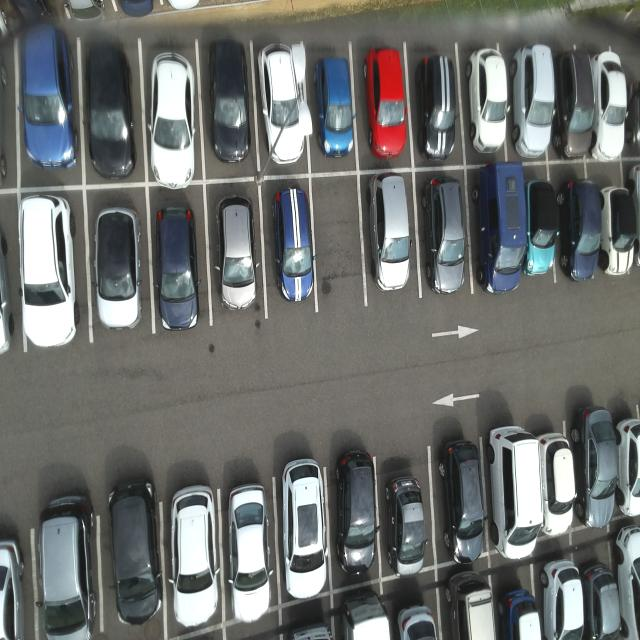car: (19, 194, 81, 349), (106, 477, 165, 639), (16, 22, 79, 171), (40, 485, 97, 640), (487, 426, 544, 563), (148, 48, 201, 192), (169, 483, 220, 632), (476, 154, 529, 297), (278, 454, 329, 602), (83, 46, 137, 183), (153, 197, 202, 336), (257, 40, 310, 168), (201, 37, 253, 167), (436, 434, 487, 565), (573, 391, 621, 530), (95, 205, 146, 334), (227, 481, 272, 625), (422, 169, 470, 299), (368, 171, 413, 296), (270, 183, 315, 306), (537, 412, 577, 549), (361, 45, 408, 161), (511, 43, 556, 163), (337, 447, 378, 578), (218, 190, 260, 316), (386, 467, 431, 584), (464, 45, 509, 158), (313, 55, 357, 168), (559, 169, 601, 286), (413, 54, 457, 161), (556, 44, 595, 162), (590, 44, 629, 162), (525, 165, 559, 286), (599, 180, 638, 276)
free_space: (307, 169, 369, 320)
